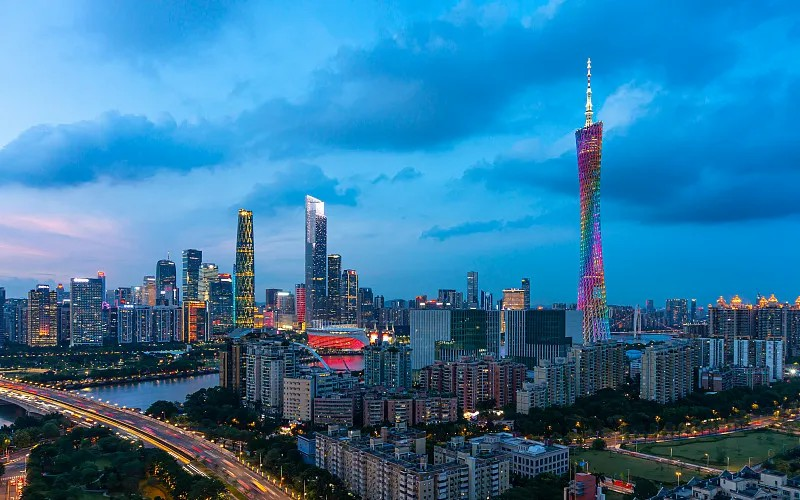Canton: (574, 57, 612, 345)
